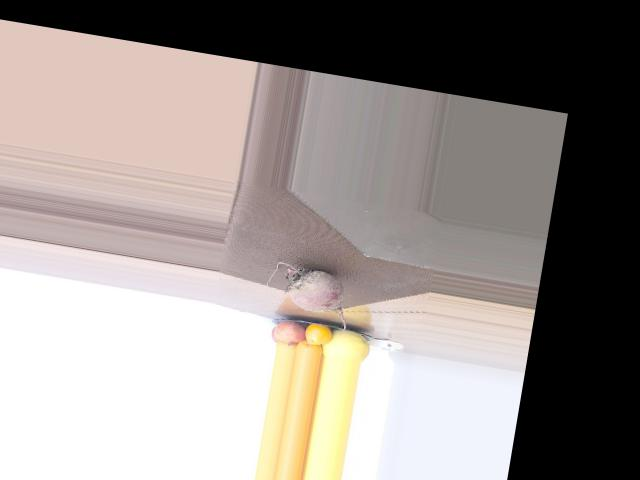beet: (260, 259, 355, 336)
